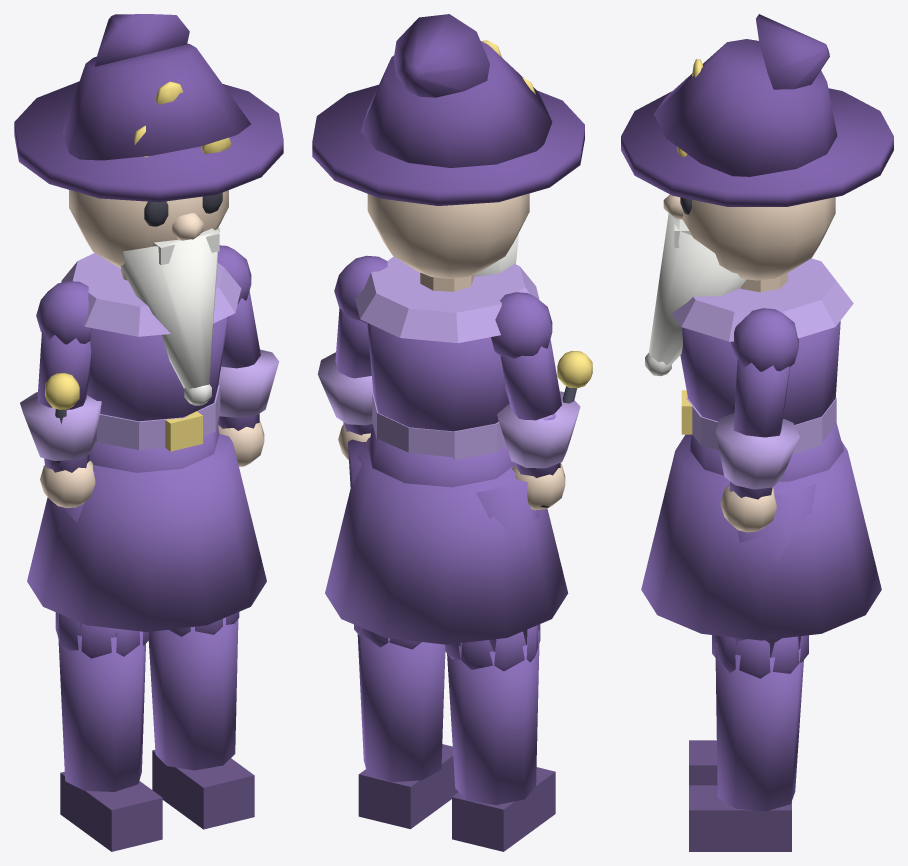
Rendered from meeple_01_zauberer_stand.glb.
The picture shows the model from 3 angles, left to right: view 1: azimuth 30°, elevation 25°; view 2: azimuth 150°, elevation 25°; view 3: azimuth 270°, elevation 25°; orthographic projection.
Parts seen in each view (by area): view 1: meeple_01_zauberer_stand; view 2: meeple_01_zauberer_stand; view 3: meeple_01_zauberer_stand.
Boxes of the visible parts, x1,y1,x2,y2 form: meeple_01_zauberer_stand: (14, 14, 283, 851); meeple_01_zauberer_stand: (312, 14, 592, 851); meeple_01_zauberer_stand: (621, 14, 893, 851).
Bounding box in the file's own units: 0.5755 × 1.76 × 0.544.
